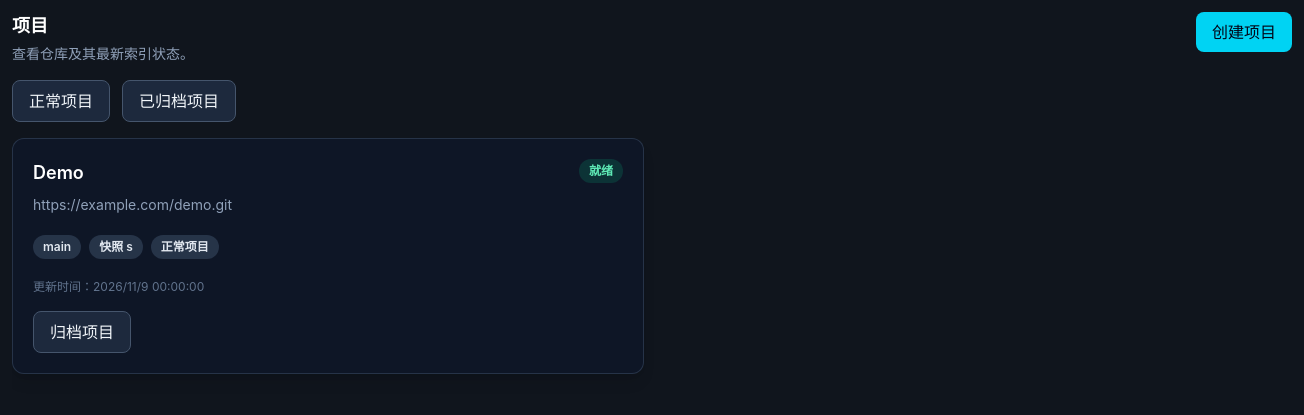
archives, restores, separates caches and refreshes project details
The width and height of the screenshot is (1304, 415).
Click the button "归档项目". click: coordinates (82, 332)
box: [33, 311, 131, 353]
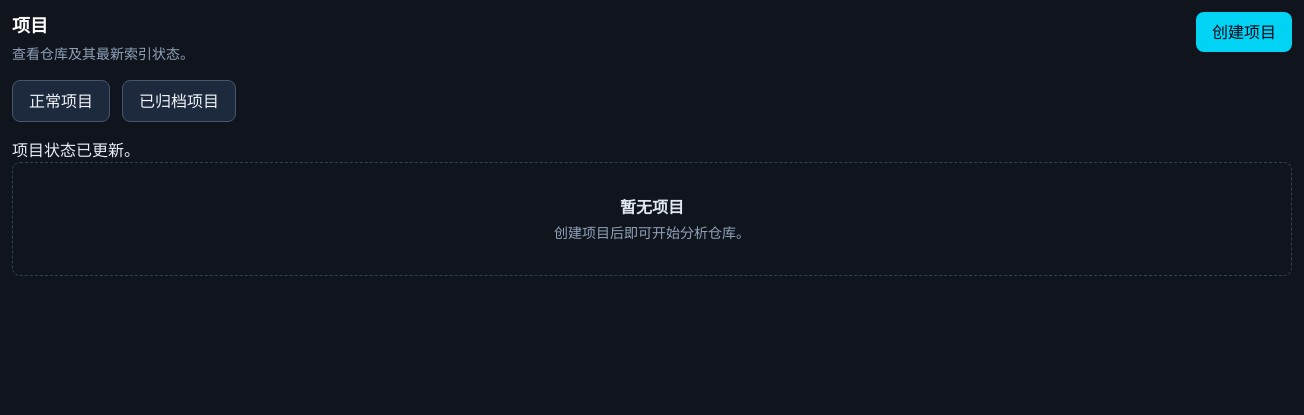
Check: the text "暂无项目" is shown, box [620, 197, 684, 217]
Click the button "已归档项目". click: coordinates (179, 101)
box: [122, 80, 236, 122]
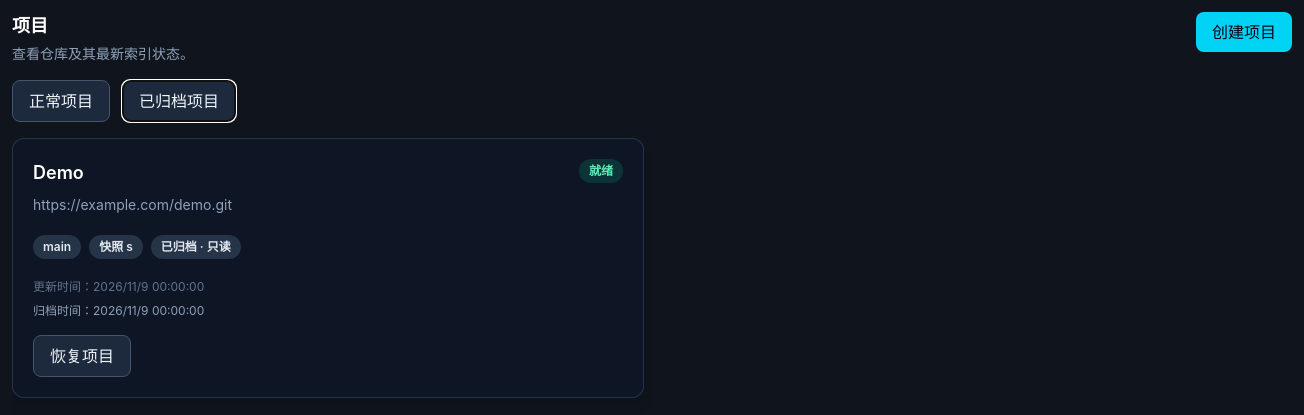
Check: the text "已归档 · 只读" is shown, box [151, 235, 241, 259]
Click the button "恢复项目". click: coordinates (82, 356)
box: [33, 335, 131, 377]
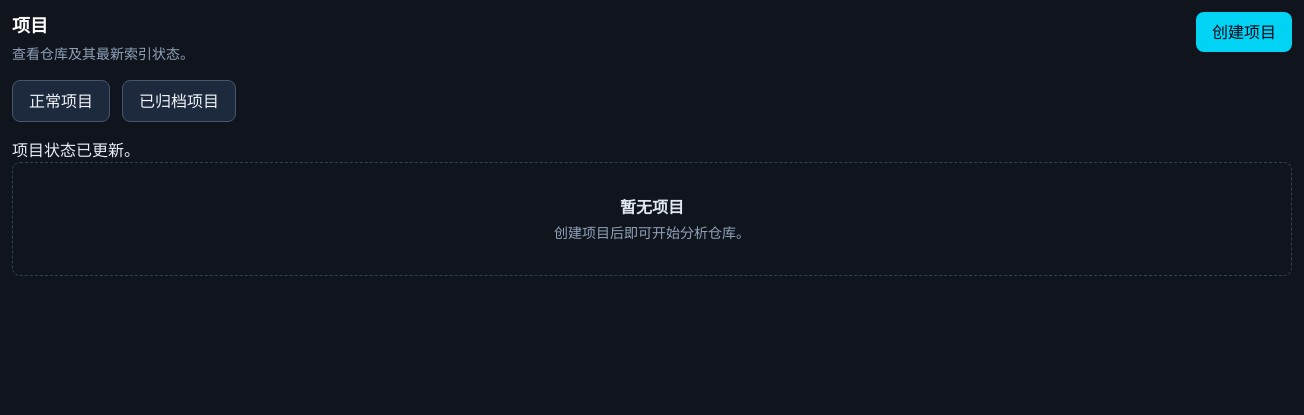
Click the button "正常项目". click: coordinates (61, 101)
box: [12, 80, 110, 122]
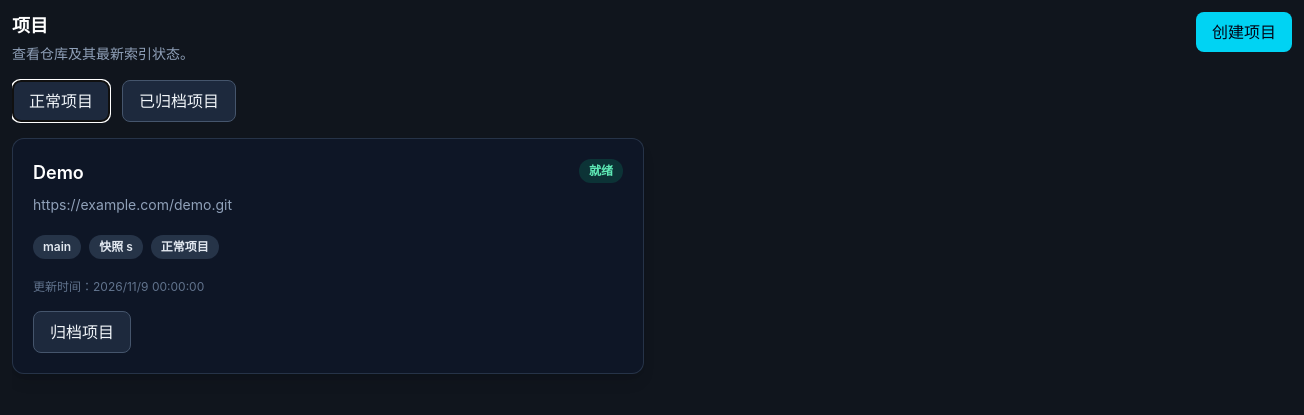
Check: the button "归档项目" is shown, box [33, 311, 131, 353]
